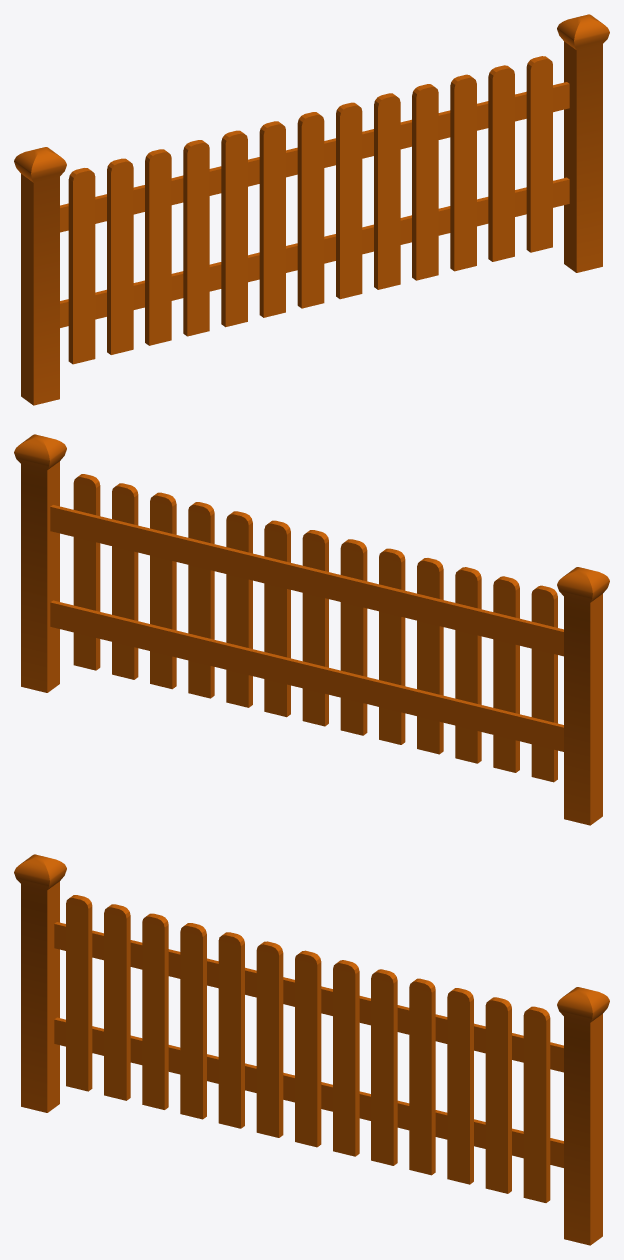
Rendered from Fence_2.fbx.
The picture shows the model from 3 angles, top to bottom: view 1: azimuth 30°, elevation 25°; view 2: azimuth 150°, elevation 25°; view 3: azimuth 330°, elevation 25°; orthographic projection.
Parts seen in each view (by area): view 1: Fence_2; view 2: Fence_2; view 3: Fence_2.
Part boxes in pixels (box(x1,y1,x2,y2)): Fence_2: box(14, 14, 609, 405); Fence_2: box(14, 434, 609, 825); Fence_2: box(14, 854, 609, 1245).
Size of the model in its own units: 314 by 128 by 16.06.
1 material, 1 textured.
